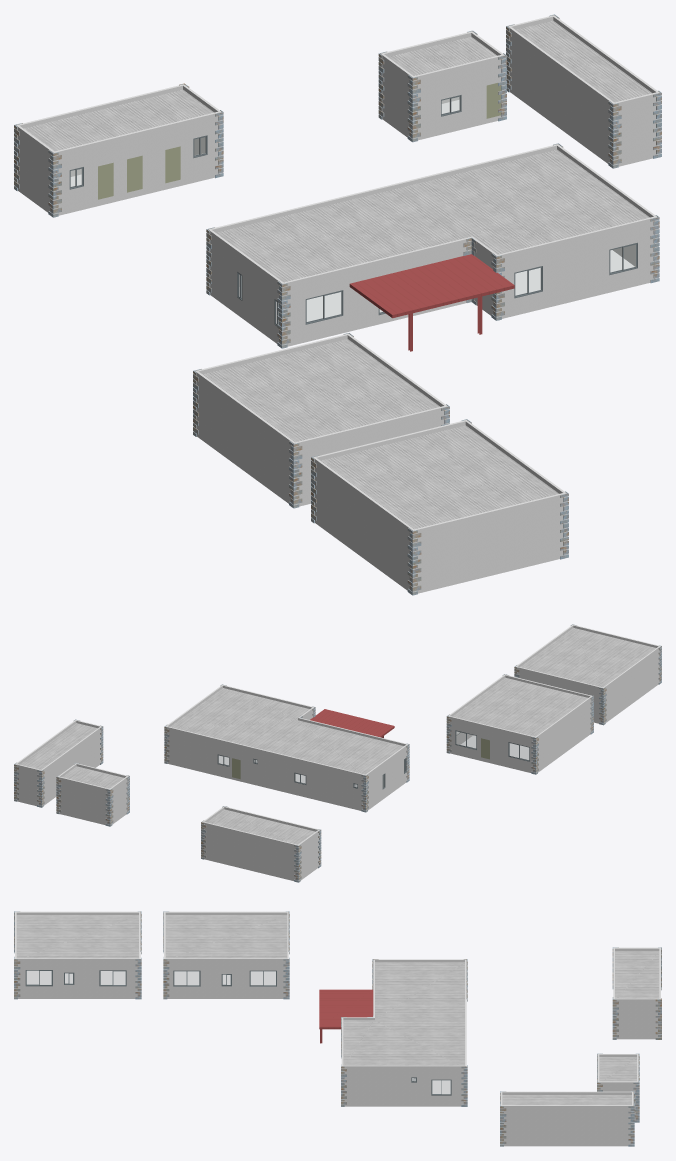
Rendered from Plan(REF)_levels(1)_window(REF)_wall(WAFRA WALL)_quoin(Y)_cornice(N).fbx.
The picture shows the model from 3 angles, top to bottom: view 1: azimuth 30°, elevation 25°; view 2: azimuth 150°, elevation 25°; view 3: azimuth 270°, elevation 25°; orthographic projection. The views are drawn at different scales.
Parts seen in each view (by area): view 1: WAFRA Stucco - White Rough 23, WAFRA Roof - Corrugated Sheet Matte 23, WAFRA Stone - Slate Natural 23, WAFRA Roof - Standing Seam Red Coat 23, Glass - Clear, Color - Beige, Color - White, Metal - Finish - Aluminum; view 2: WAFRA Stucco - White Rough 23, WAFRA Roof - Corrugated Sheet Matte 23, WAFRA Stone - Slate Natural 23, WAFRA Roof - Standing Seam Red Coat 23, Color - White, Glass - Clear, Metal - Finish - Aluminum; view 3: WAFRA Roof - Corrugated Sheet Matte 23, WAFRA Stucco - White Rough 23, WAFRA Stone - Slate Natural 23, WAFRA Roof - Standing Seam Red Coat 23, Glass - Clear, Metal - Finish - Aluminum, Color - White.
Part boxes in pixels (left/top/right/bottom): WAFRA Stucco - White Rough 23: left=16, top=15, right=659, bottom=593; WAFRA Roof - Corrugated Sheet Matte 23: left=23, top=20, right=651, bottom=529; WAFRA Stone - Slate Natural 23: left=14, top=14, right=661, bottom=595; WAFRA Roof - Standing Seam Red Coat 23: left=349, top=254, right=514, bottom=351; Glass - Clear: left=71, top=97, right=635, bottom=323; Color - Beige: left=98, top=83, right=501, bottom=199; Color - White: left=14, top=29, right=661, bottom=591; Metal - Finish - Aluminum: left=69, top=95, right=637, bottom=326; WAFRA Stucco - White Rough 23: left=15, top=624, right=660, bottom=880; WAFRA Roof - Corrugated Sheet Matte 23: left=20, top=628, right=655, bottom=844; WAFRA Stone - Slate Natural 23: left=14, top=624, right=661, bottom=882; WAFRA Roof - Standing Seam Red Coat 23: left=310, top=709, right=394, bottom=737; Color - White: left=14, top=648, right=661, bottom=880; Glass - Clear: left=219, top=731, right=528, bottom=787; Metal - Finish - Aluminum: left=217, top=730, right=529, bottom=789; WAFRA Roof - Corrugated Sheet Matte 23: left=16, top=915, right=659, bottom=1105; WAFRA Stucco - White Rough 23: left=15, top=911, right=660, bottom=1146; WAFRA Stone - Slate Natural 23: left=14, top=911, right=661, bottom=1146; WAFRA Roof - Standing Seam Red Coat 23: left=319, top=989, right=373, bottom=1043; Glass - Clear: left=27, top=971, right=450, bottom=1093; Metal - Finish - Aluminum: left=25, top=970, right=451, bottom=1095; Color - White: left=14, top=927, right=661, bottom=1144.
Size of the model in its own units: 4163 by 5848 by 400.
Materials: 12 (5 with a texture image).
